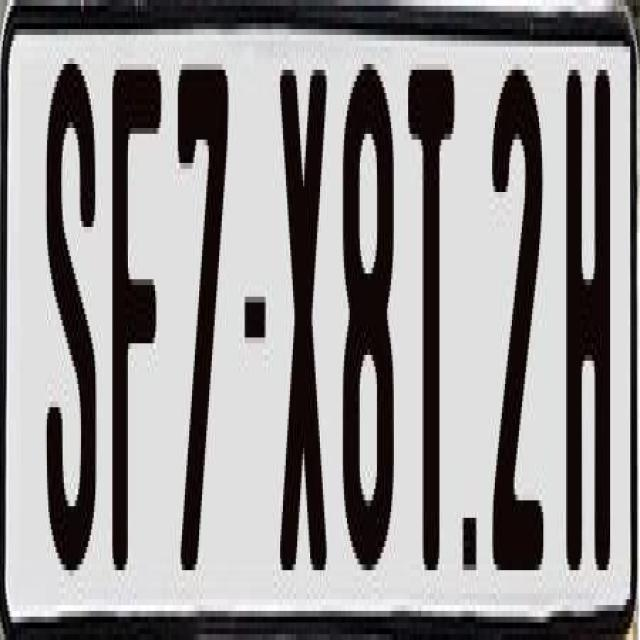2: (492, 52, 543, 553)
7: (175, 64, 225, 594)
8: (342, 52, 392, 588)
F: (108, 64, 158, 588)
H: (564, 70, 614, 606)
S: (43, 64, 94, 576)
T: (407, 52, 461, 576)
X: (280, 58, 327, 570)
